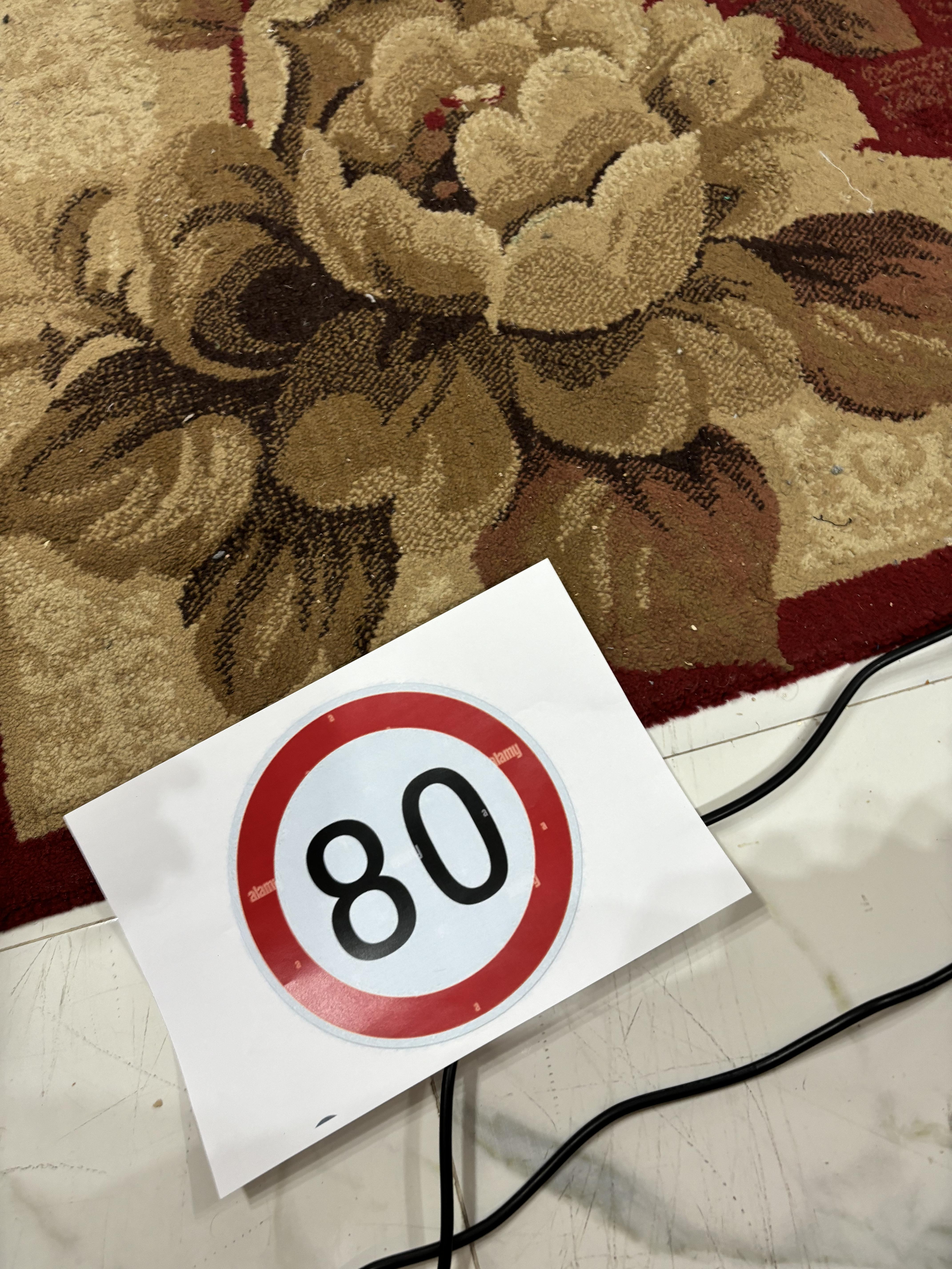80-Speed: (232, 694, 578, 1039)
